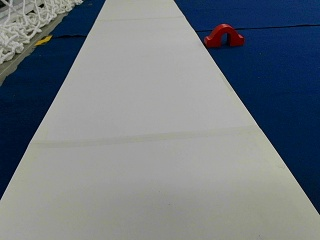bridge: (205, 24, 244, 45)
